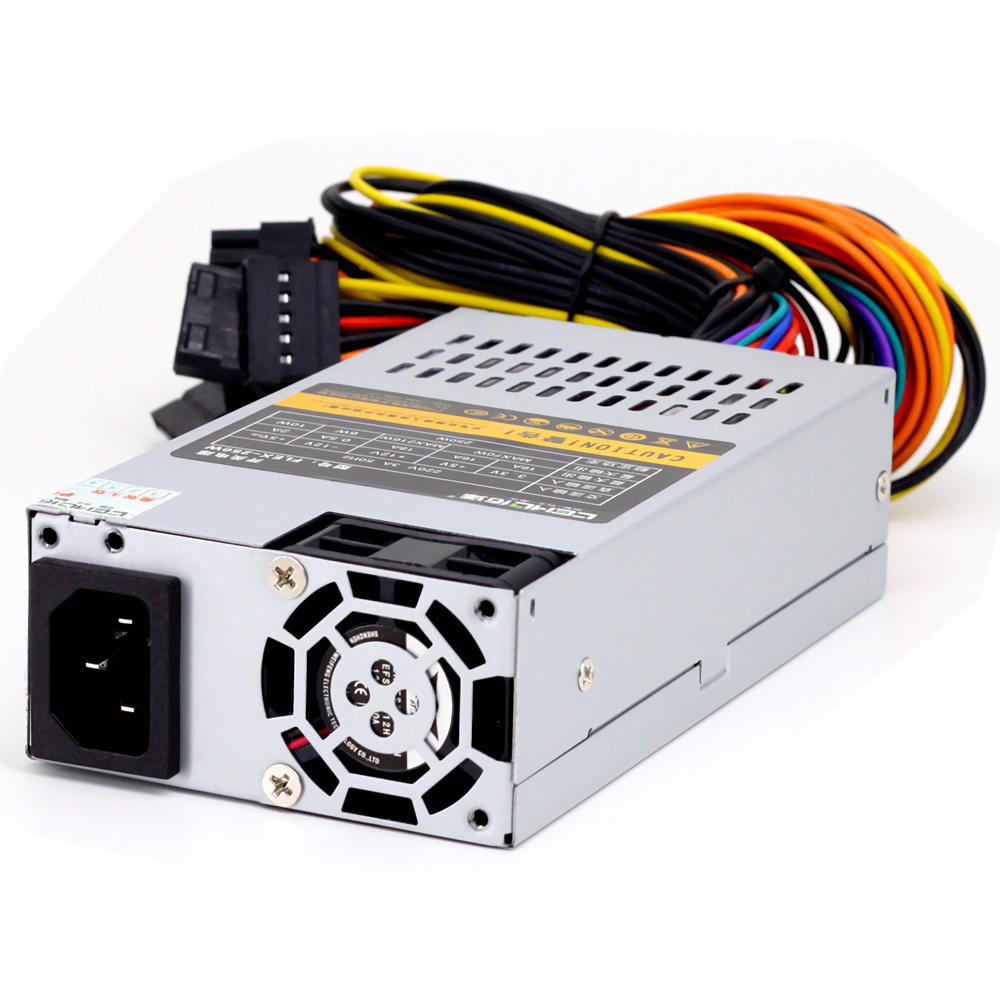Power Supply: (8, 142, 994, 878)
